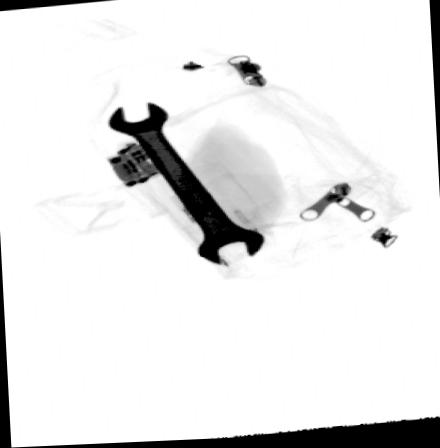Wrench: (107, 102, 267, 269)
